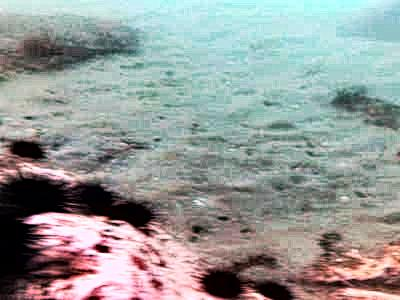urchin: (1, 211, 58, 278), (4, 174, 65, 215), (66, 181, 109, 213), (193, 268, 241, 296), (104, 203, 155, 228), (10, 139, 47, 159), (252, 276, 291, 294)
